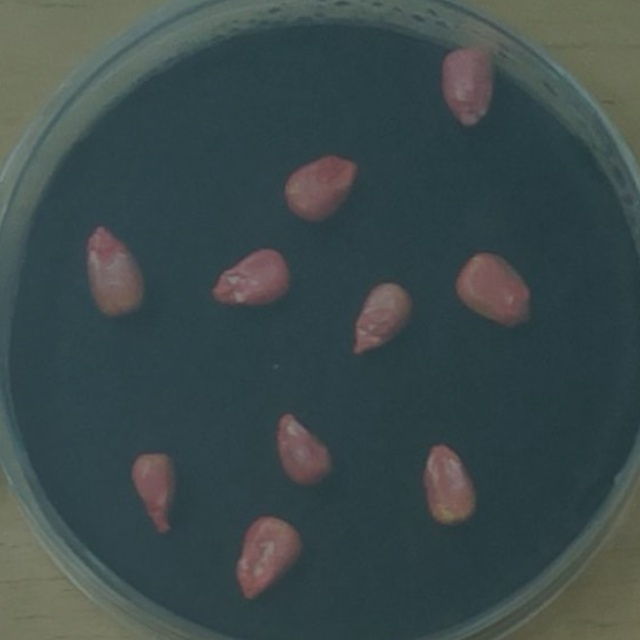Zea mays: (448, 245, 541, 339), (228, 508, 313, 609), (76, 220, 153, 326), (275, 147, 367, 231), (203, 239, 297, 316), (345, 271, 421, 364), (432, 39, 501, 137), (415, 437, 485, 533), (120, 444, 184, 546), (269, 408, 340, 495)
